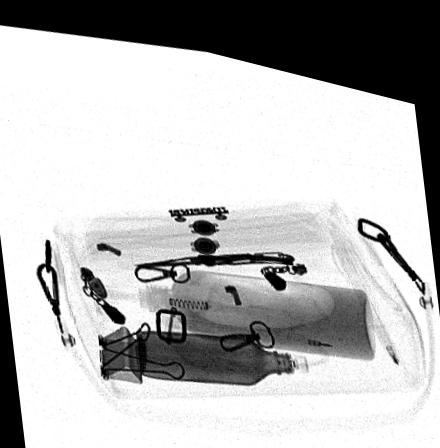Knife: (131, 237, 296, 262)
